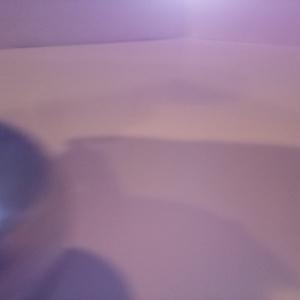alive_ball: (1, 121, 68, 300)
